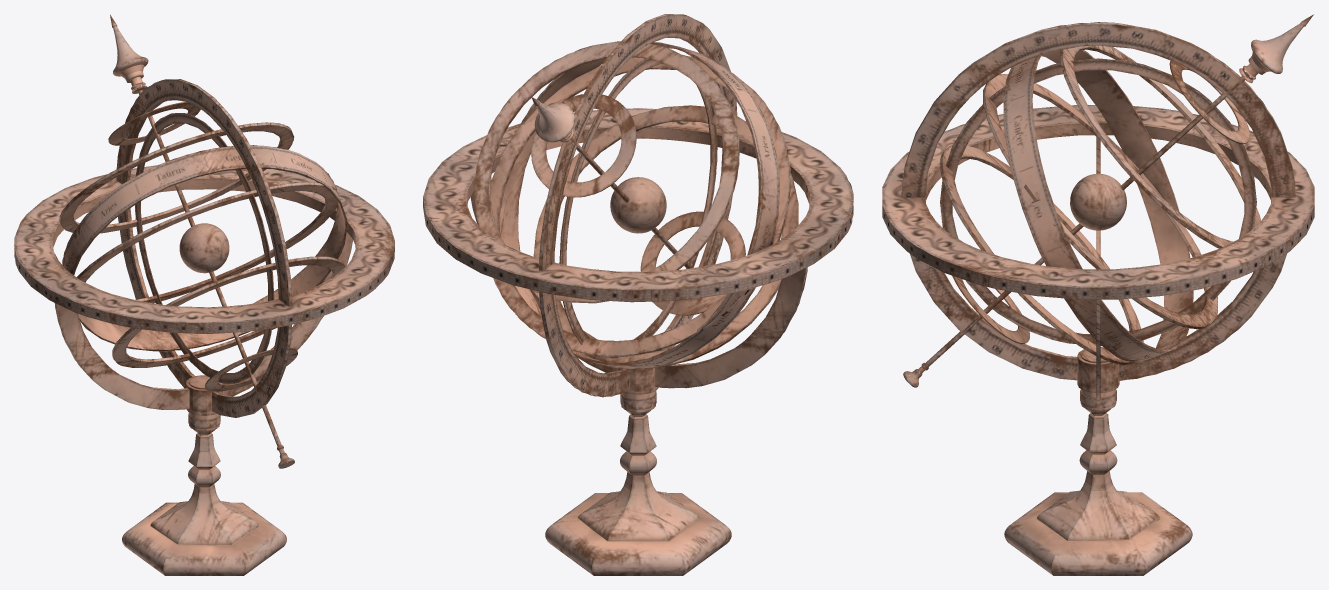
The model's file is mdl_chazzyb_sci_armillary_lowpoly.glb.
3 views of the same model, side by side, from view 1: azimuth 30°, elevation 25°; view 2: azimuth 150°, elevation 25°; view 3: azimuth 270°, elevation 25° (orthographic). The views are drawn at different scales.
Visible parts, largest first — view 1: Lathe_2; view 2: Lathe_2; view 3: Lathe_2.
Part boxes in pixels (bbox=[...]): Lathe_2: bbox=[14, 14, 394, 575]; Lathe_2: bbox=[423, 14, 853, 575]; Lathe_2: bbox=[882, 14, 1314, 575].
Size of the model in its own units: 0.3571 by 0.4822 by 0.3571.
1 material, 1 textured.
